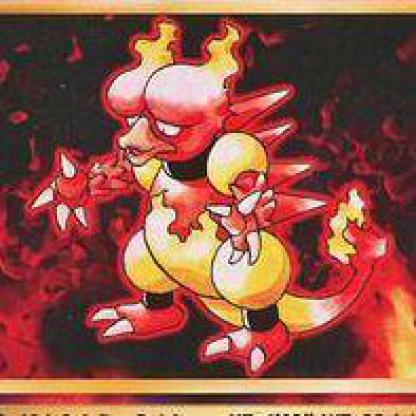Magmar: (1, 1, 415, 415)
